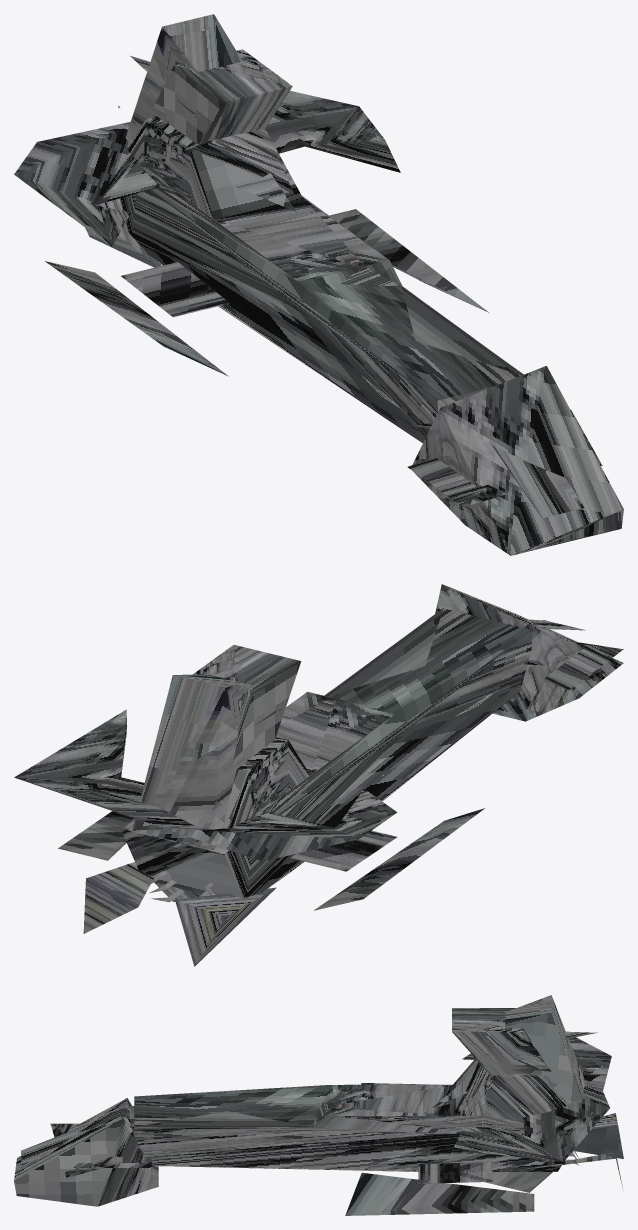
3 renders of one model, top to bottom at view 1: azimuth 30°, elevation 25°; view 2: azimuth 150°, elevation 25°; view 3: azimuth 270°, elevation 25°, orthographic. The views are drawn at different scales.
Visible parts, largest first — view 1: Object_2; view 2: Object_2; view 3: Object_2.
Part boxes in pixels (x1,y1,x2,y2): Object_2: [14, 14, 623, 555]; Object_2: [14, 584, 623, 966]; Object_2: [14, 995, 623, 1215].
Size of the model in its own units: 242 by 173 by 520.
1 material, 1 textured.
